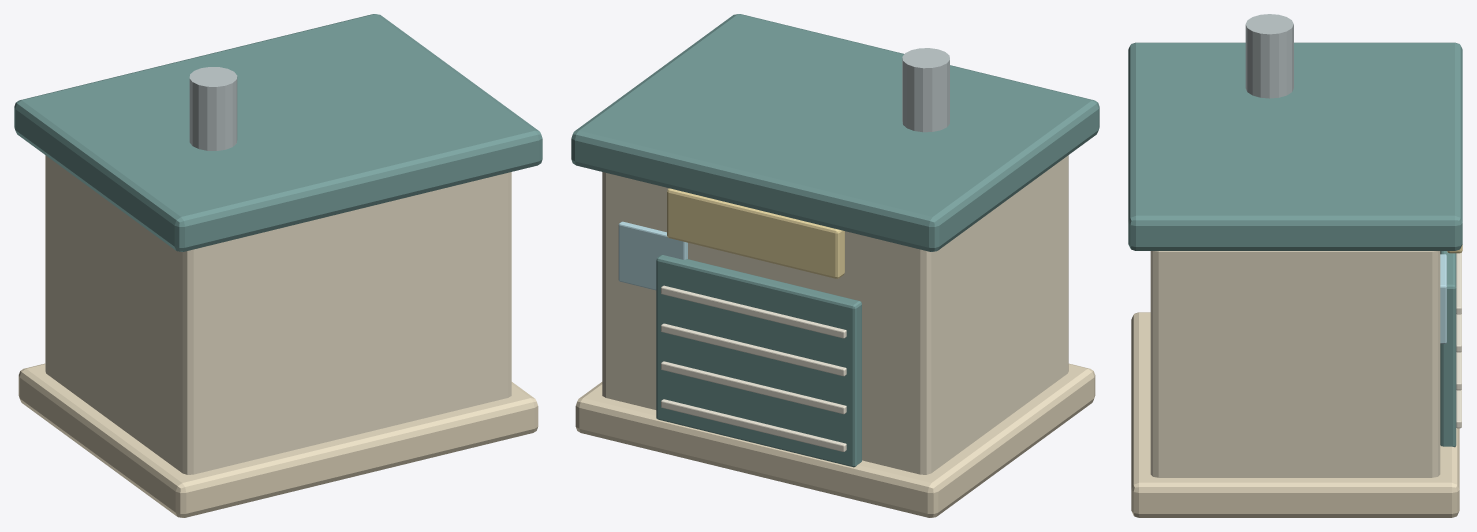
Rendered from animal_care_depot.glb.
3 renders of one model, left to right at view 1: azimuth 30°, elevation 25°; view 2: azimuth 150°, elevation 25°; view 3: azimuth 270°, elevation 25°, orthographic.
Parts seen in each view (by area): view 1: shell, roof, plinth, roof_vent; view 2: roof, shell, garage_door, plinth, sign, roof_vent, side_window, garage_slat_2, garage_slat_0, garage_slat_1, garage_slat_3; view 3: roof, shell, plinth, roof_vent, garage_door, side_window.
Boxes of the visible parts, x1,y1,x2,y2 form: shell: (45, 155, 511, 474); roof: (14, 14, 542, 251); plinth: (18, 363, 538, 517); roof_vent: (189, 67, 237, 150); roof: (571, 14, 1099, 251); shell: (602, 155, 1068, 474); garage_door: (656, 255, 861, 467); plinth: (575, 363, 1095, 517); sign: (667, 188, 844, 278); roof_vent: (902, 48, 949, 132); side_window: (618, 221, 687, 290); garage_slat_2: (661, 323, 846, 376); garage_slat_0: (661, 399, 846, 451); garage_slat_1: (661, 361, 846, 414); garage_slat_3: (661, 285, 846, 338); roof: (1128, 42, 1462, 250); shell: (1150, 251, 1440, 477); plinth: (1131, 312, 1459, 517); roof_vent: (1245, 14, 1293, 98); garage_door: (1440, 251, 1456, 447); side_window: (1440, 254, 1446, 343).
Bounding box in the file's own units: 1.32 × 1.27 × 1.04.
